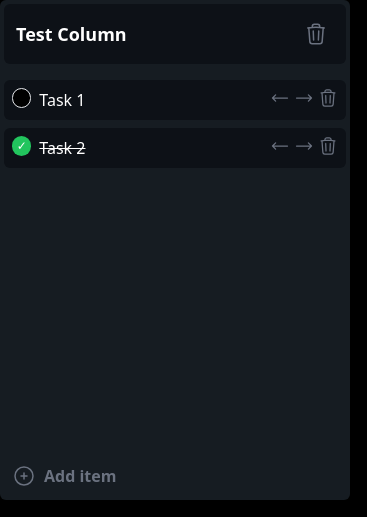
ColumnContainer › when adding a new task › renders an input to enter the task name
The width and height of the screenshot is (367, 517).
Step 1. Click the button "Add item" → (80, 476), box [4,456,346,496]
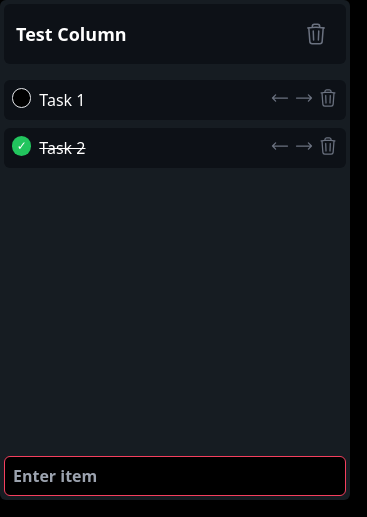
expect the field with placeholder "Enter item" is shown: met, box [4,456,346,496]
